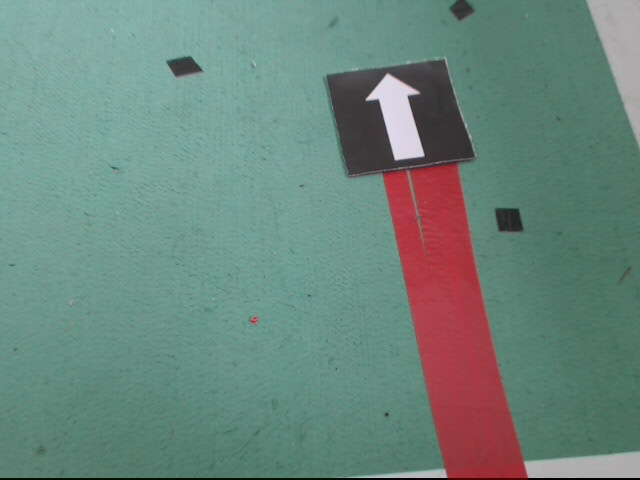straight: (328, 57, 477, 179)
